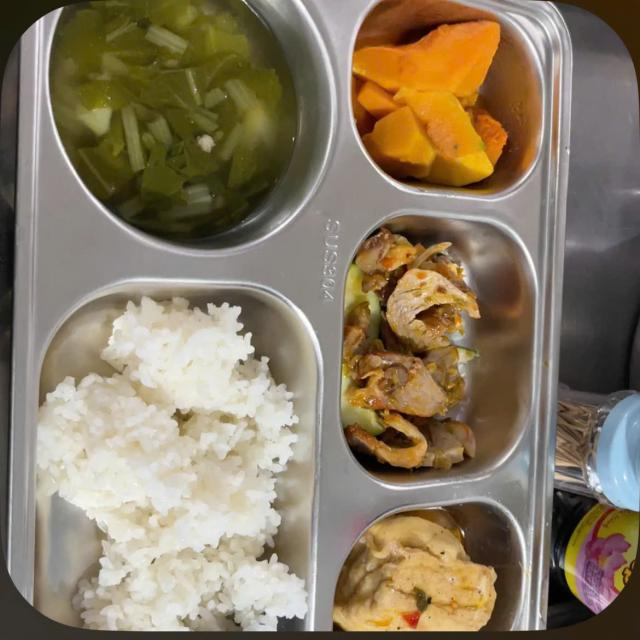canh_cai: (68, 1, 313, 231)
com_trang: (71, 304, 300, 640)
dau_hu_sot_ca: (365, 522, 507, 640)
thit_kho: (370, 226, 506, 477)
